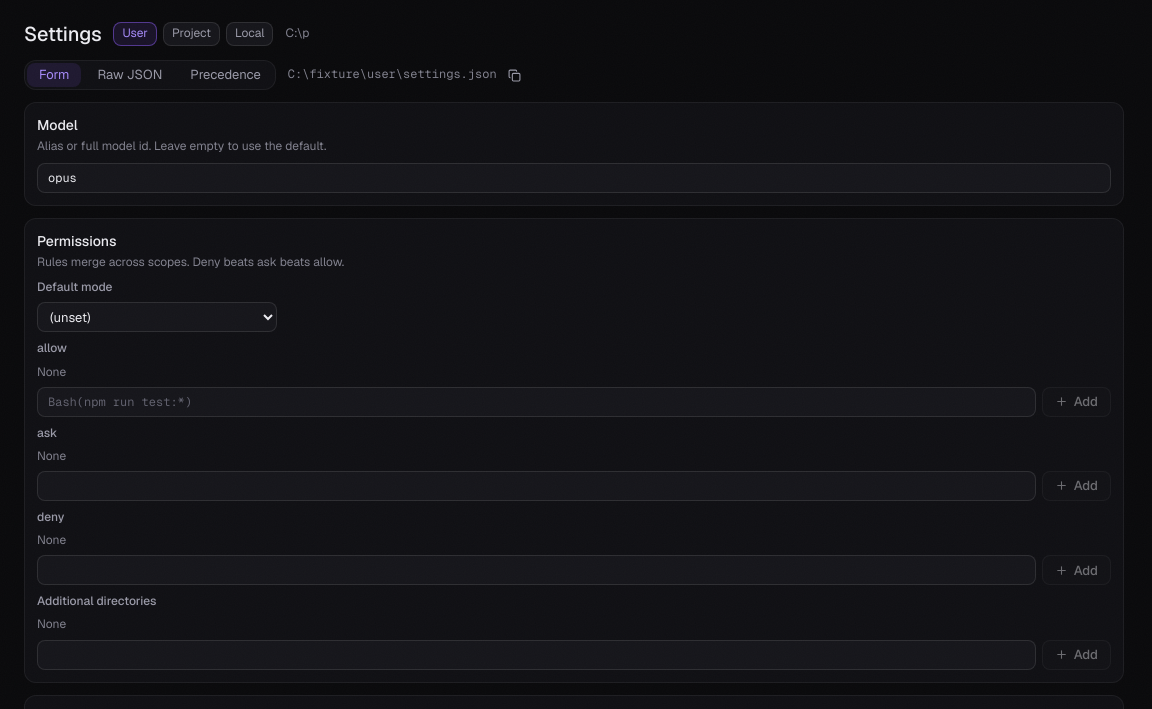
unsaved-changes guard › asks before switching scope with a dirty buffer
This screenshot has width=1152, height=709.
Replace the text in the field named "Model" with "mine": coordinates (574, 178) [37, 163, 1111, 193]
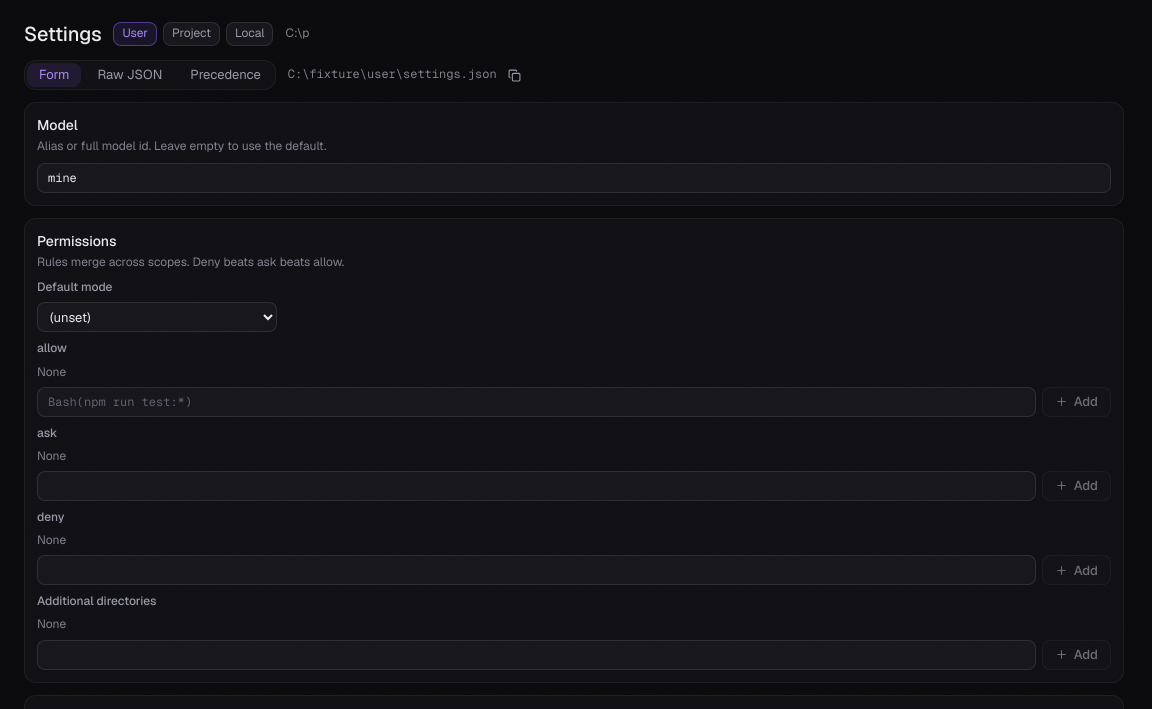
Click the button "Project": coordinates (191, 34) [163, 22, 220, 46]
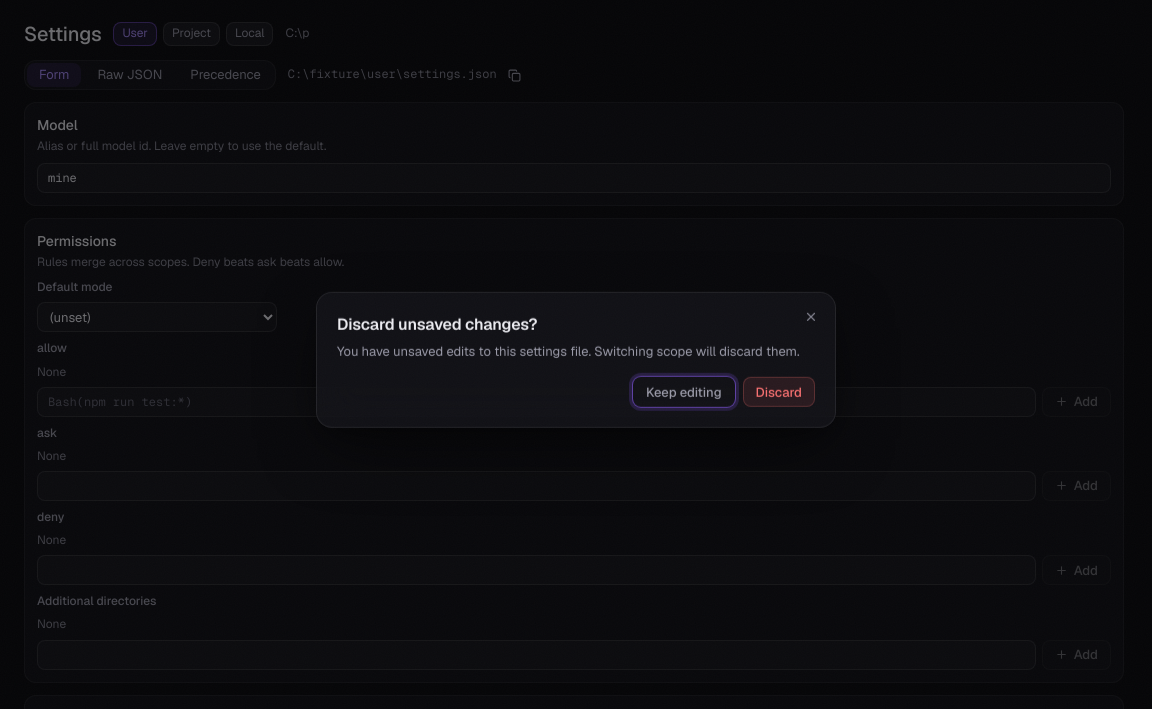
Result: the dialog shows "Discard unsaved changes?" at [337, 314, 538, 335]
Click the button "Keep editing": coordinates (684, 392) [633, 377, 734, 407]
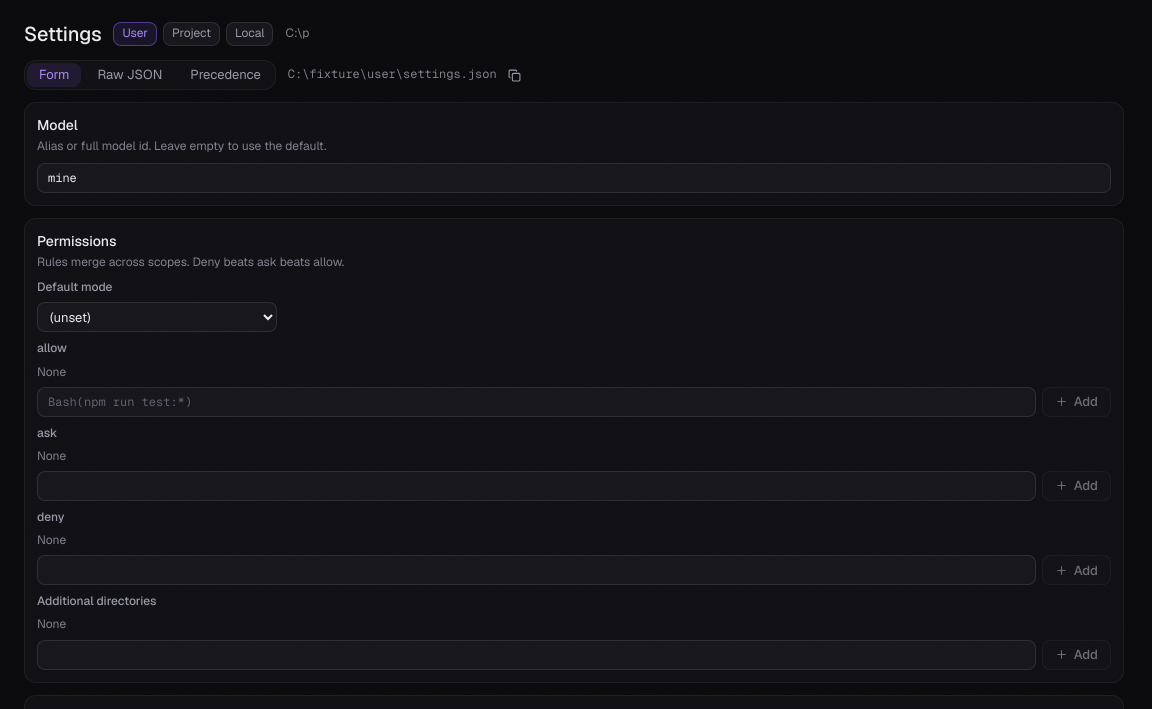
Click the button "Project": coordinates (191, 34) [163, 22, 220, 46]
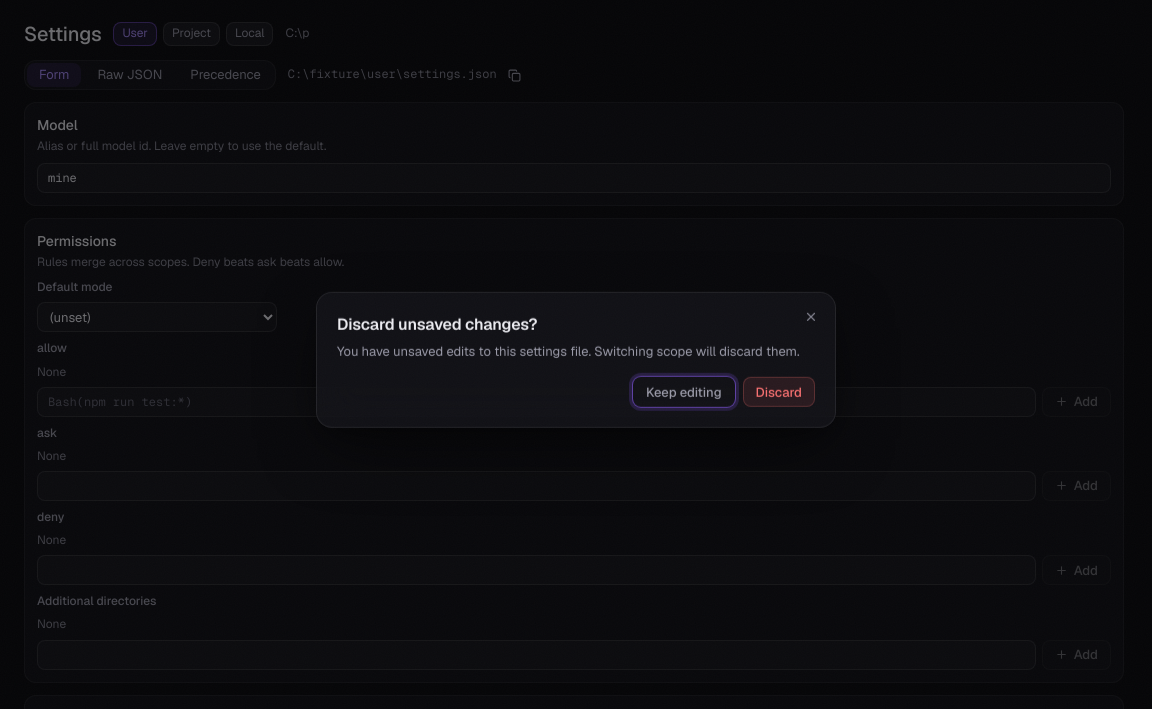
Click the button "Discard": coordinates (779, 392) [742, 377, 815, 407]
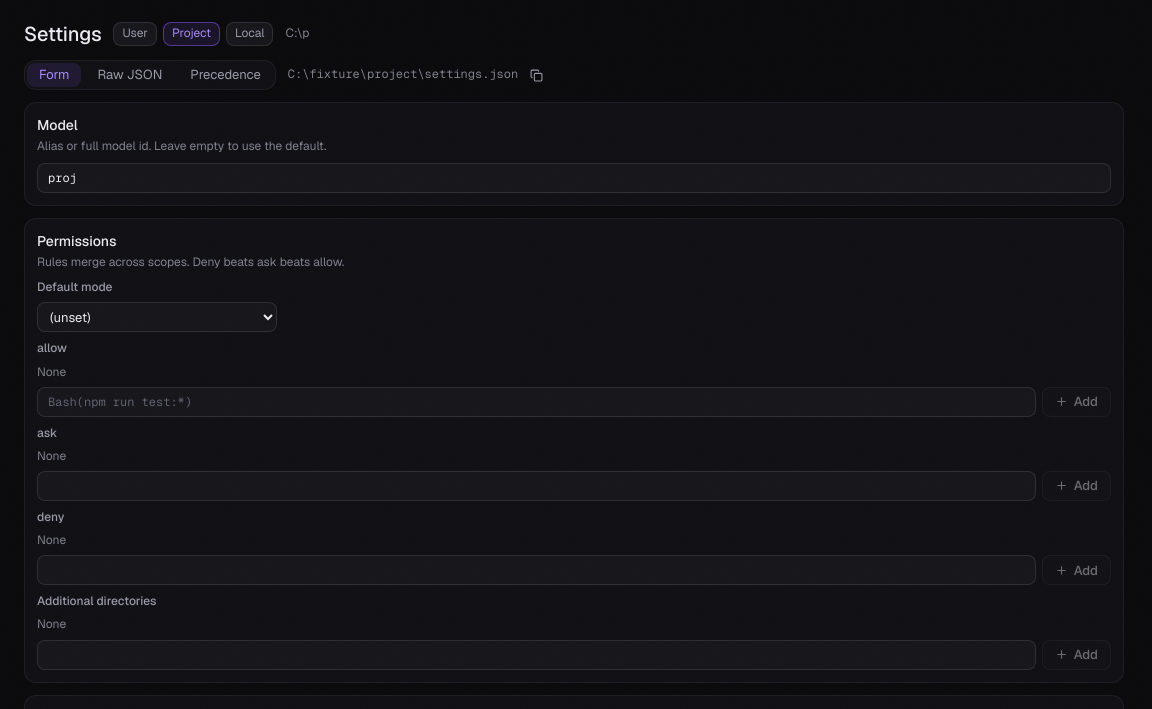
Result: the field named "Model" holds "proj" at [37, 163, 1111, 193]
